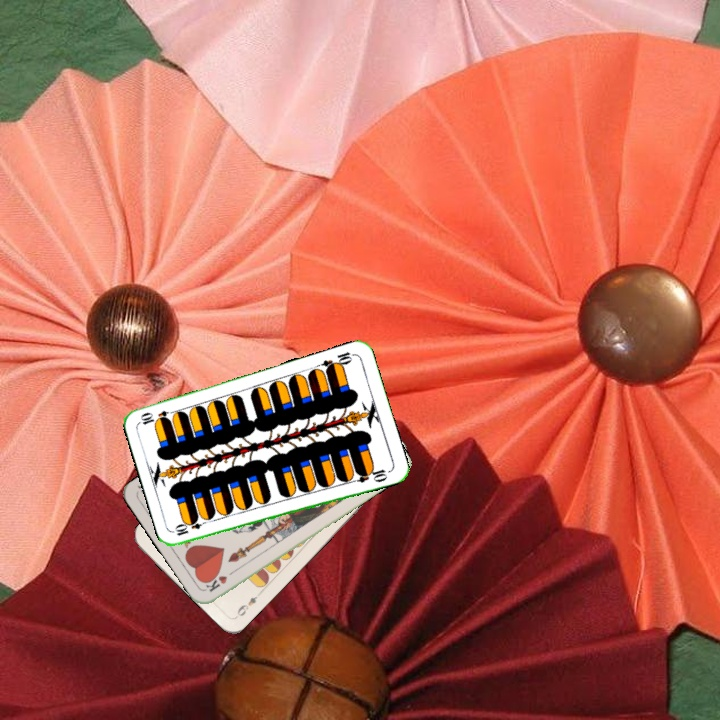E10: (317, 348, 357, 374), (172, 516, 211, 538)
E9: (232, 588, 264, 620)
HK: (201, 565, 239, 594)
